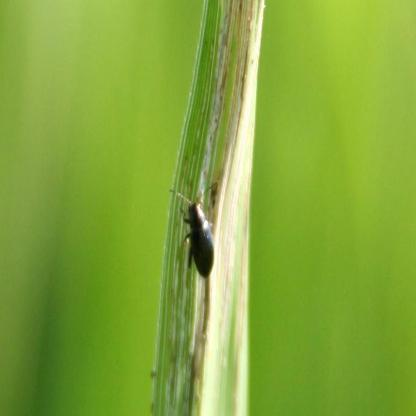rice-bug: (184, 189, 221, 279)
